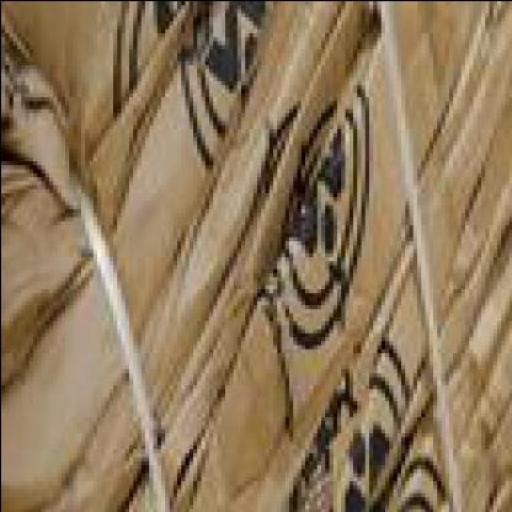cardboard: (2, 1, 511, 510), (4, 2, 376, 508), (216, 2, 488, 508)
